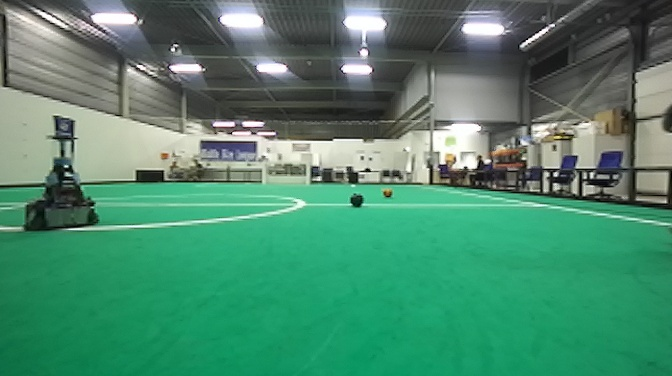ball: (346, 191, 367, 210), (379, 186, 396, 199)
goal: (260, 163, 311, 190)
goalpost: (260, 163, 268, 187), (305, 164, 311, 189)
robot: (20, 114, 103, 234)
